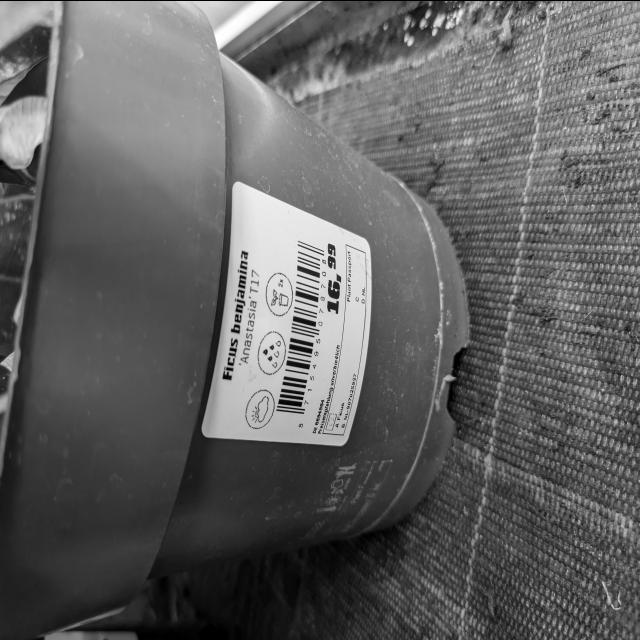dungen: (260, 270, 294, 320)
halb sonnig schattig: (240, 387, 274, 433)
mittel giesen: (256, 328, 288, 374)
